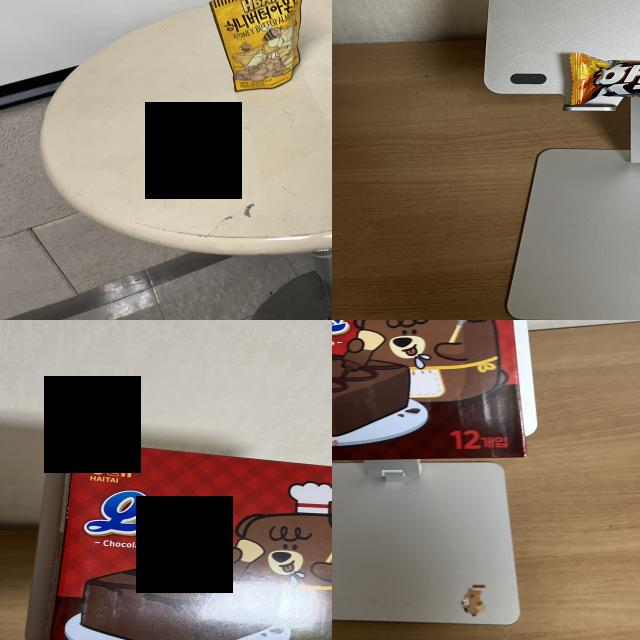honeyAmond: (208, 0, 298, 86)
hotBreak: (570, 48, 640, 105)
ohYes: (57, 446, 332, 640), (332, 320, 524, 457)
